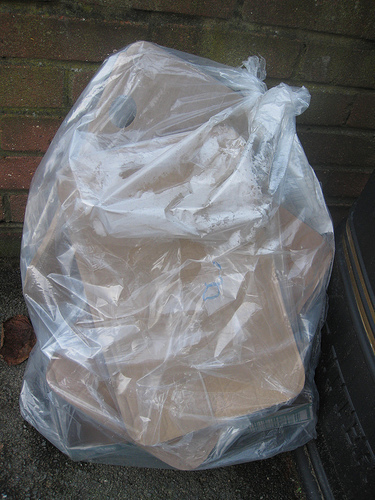litter: (18, 40, 339, 472)
